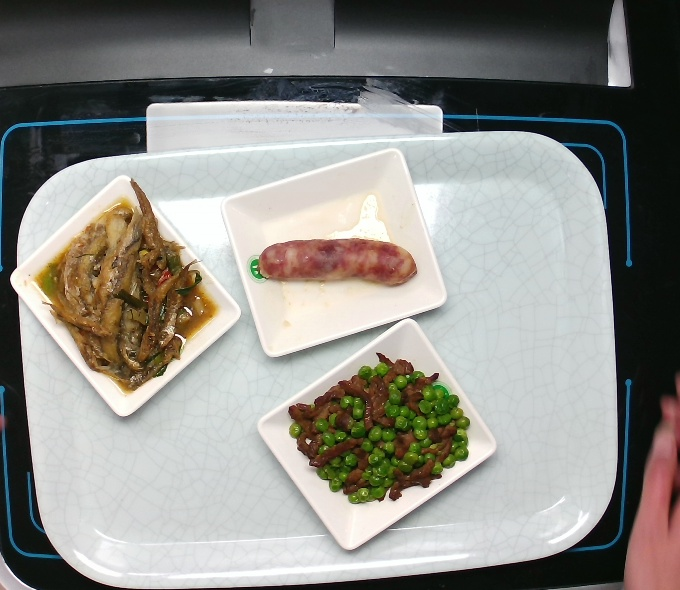wcq-CanDouNiuRou: (282, 346, 466, 500)
wcq-XiangChang: (242, 222, 427, 301)
wcq-XiaoJiYu: (37, 178, 215, 396)
